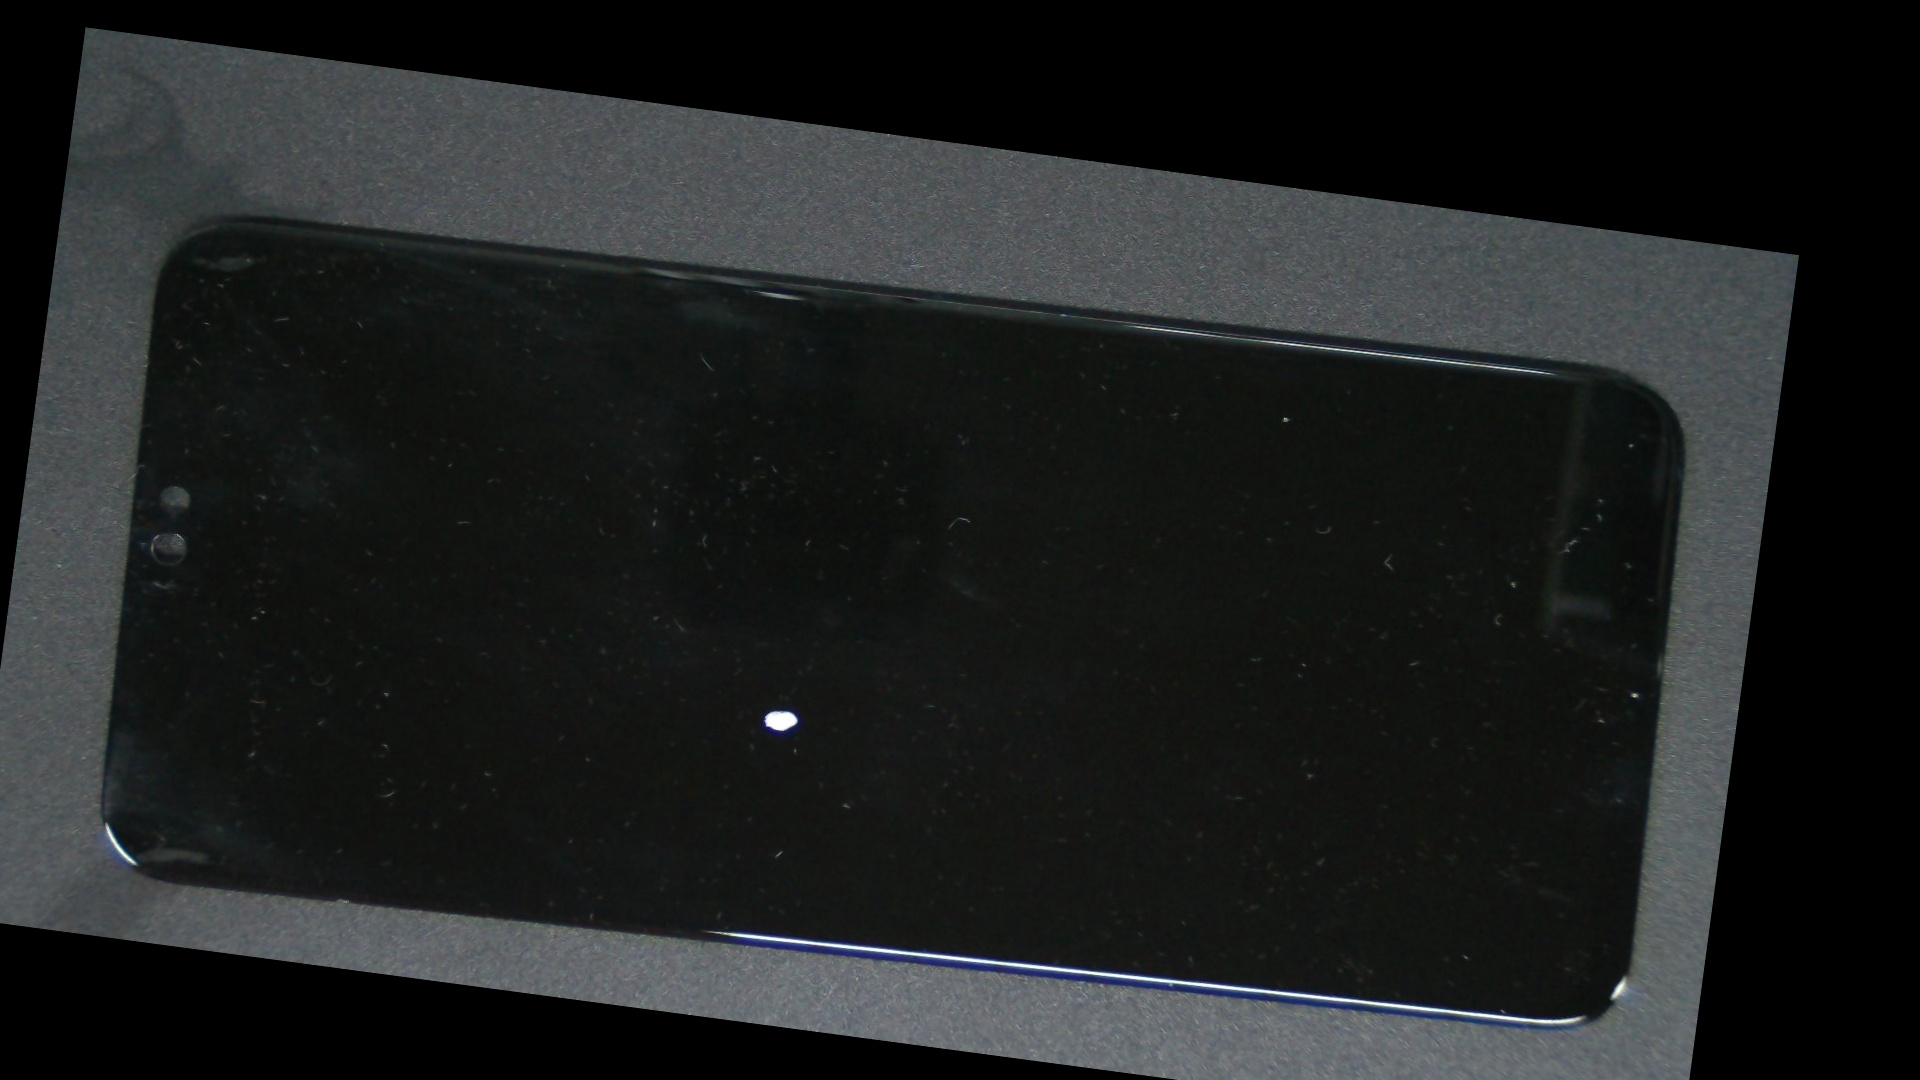oil: (356, 368, 1204, 1051)
